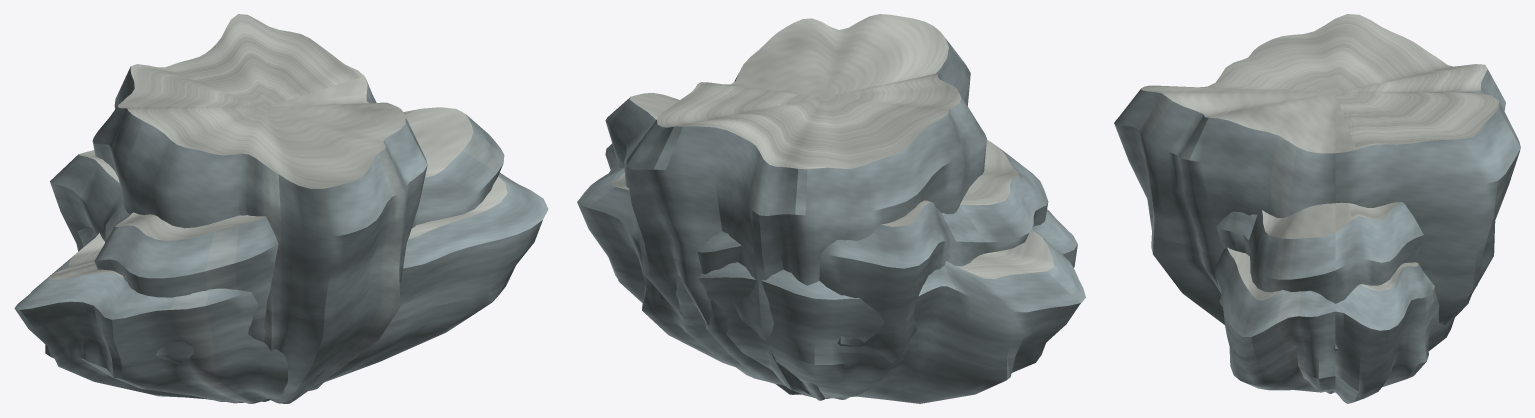
Rendered from strata-surround-v01.glb.
3 views of the same model, side by side, from view 1: azimuth 30°, elevation 25°; view 2: azimuth 150°, elevation 25°; view 3: azimuth 270°, elevation 25° (orthographic). The views are drawn at different scales.
Visible parts, largest first — view 1: Continuous eroded mass.004, Continuous eroded mass.005, Continuous eroded mass.003; view 2: Continuous eroded mass.004, Continuous eroded mass.005, Continuous eroded mass.003; view 3: Continuous eroded mass.004, Continuous eroded mass.005, Continuous eroded mass.003.
Boxes of the visible parts, x1,y1,x2,y2 form: Continuous eroded mass.004: (92, 14, 427, 403); Continuous eroded mass.005: (14, 172, 548, 403); Continuous eroded mass.003: (50, 107, 504, 402); Continuous eroded mass.004: (626, 14, 986, 400); Continuous eroded mass.005: (577, 143, 1085, 403); Continuous eroded mass.003: (605, 93, 1048, 399); Continuous eroded mass.004: (1114, 14, 1520, 324); Continuous eroded mass.005: (1215, 247, 1456, 403); Continuous eroded mass.003: (1216, 202, 1471, 392).
Size of the model in its own units: 32.97 by 19.08 by 23.85.
Materials: 3 (3 with a texture image).
